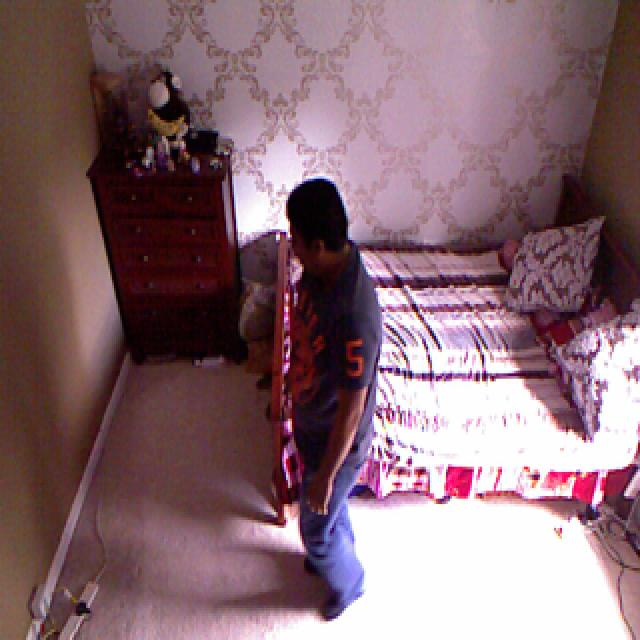standing: (279, 167, 395, 634)
